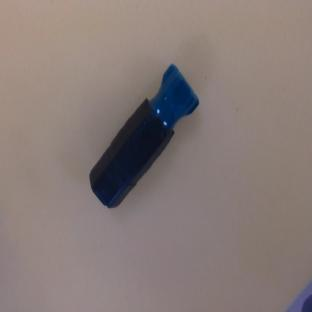part_2_bad: (78, 63, 208, 213)
